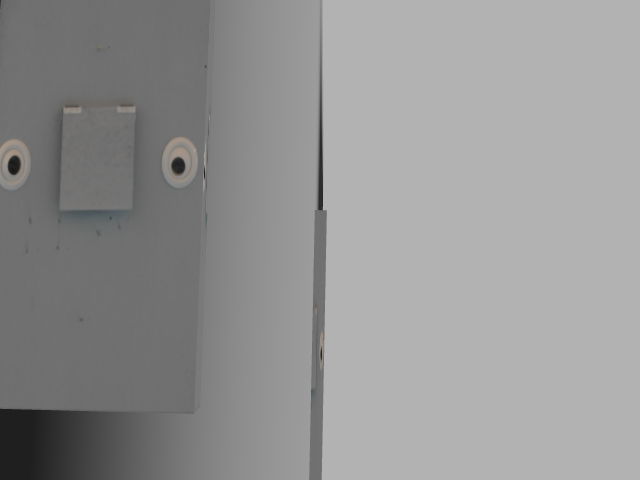facade: (0, 100, 198, 213)
